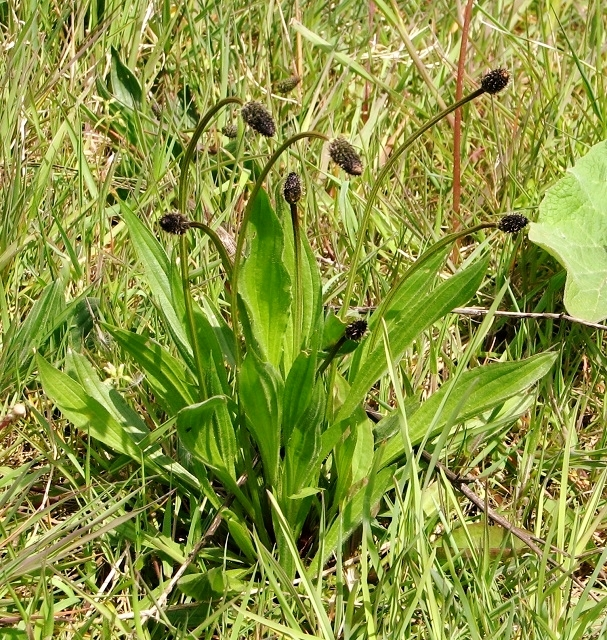buckhorn plantain: (86, 66, 524, 551)
